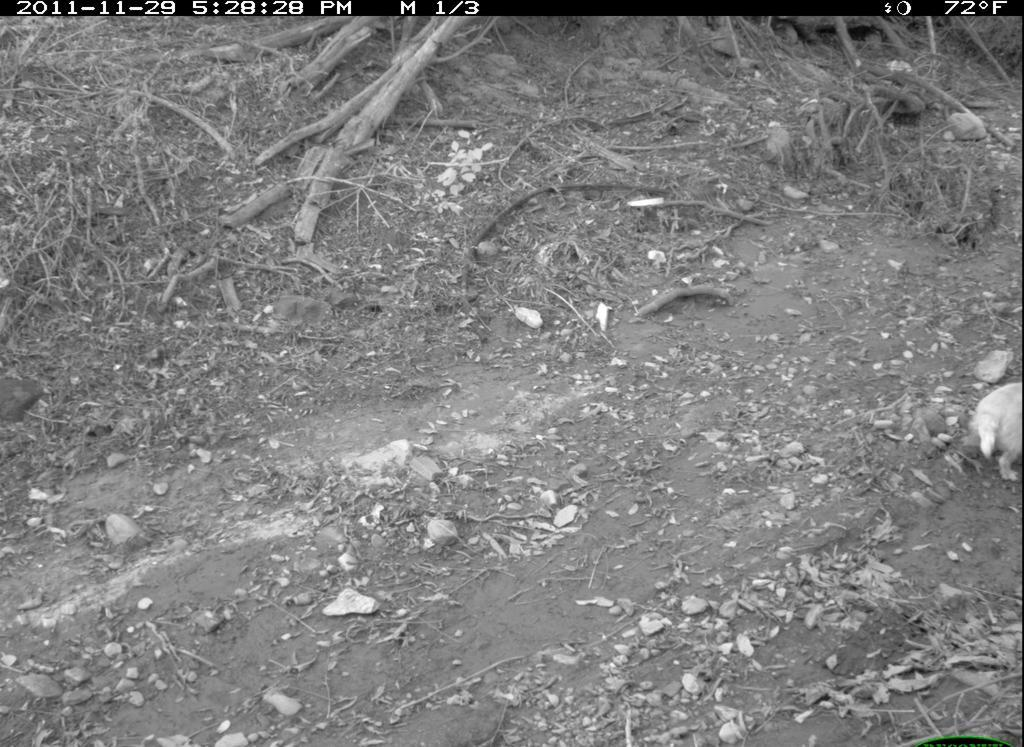dog: (964, 370, 1022, 498)
